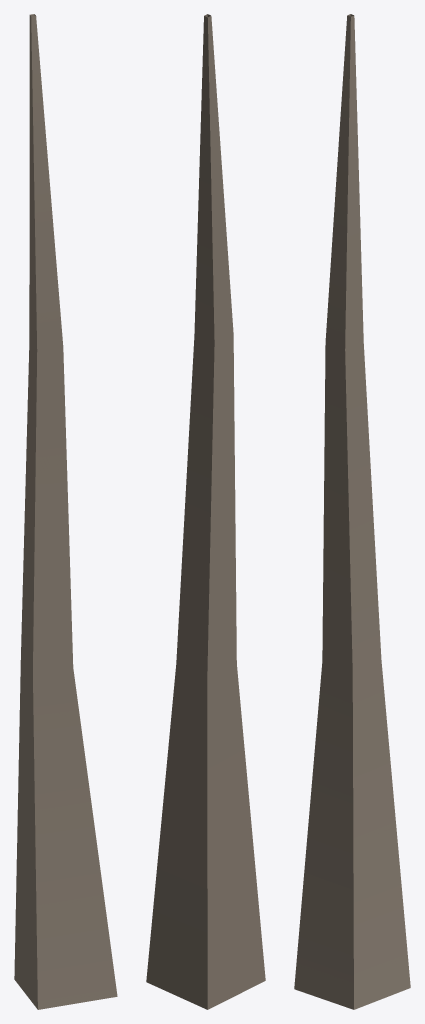
File: tree_dead_a_lod2.glb
3 renders of one model, left to right at view 1: azimuth 30°, elevation 25°; view 2: azimuth 150°, elevation 25°; view 3: azimuth 330°, elevation 25°, orthographic. The views are drawn at different scales.
Parts seen in each view (by area): view 1: tree_dead_a_lod2; view 2: tree_dead_a_lod2; view 3: tree_dead_a_lod2.
Part boxes in pixels (x1,y1,x2,y2): tree_dead_a_lod2: (14,14,117,1009); tree_dead_a_lod2: (146,14,265,1009); tree_dead_a_lod2: (294,14,410,1009).
Size of the model in its own units: 0.827 by 8.82 by 0.8255.
